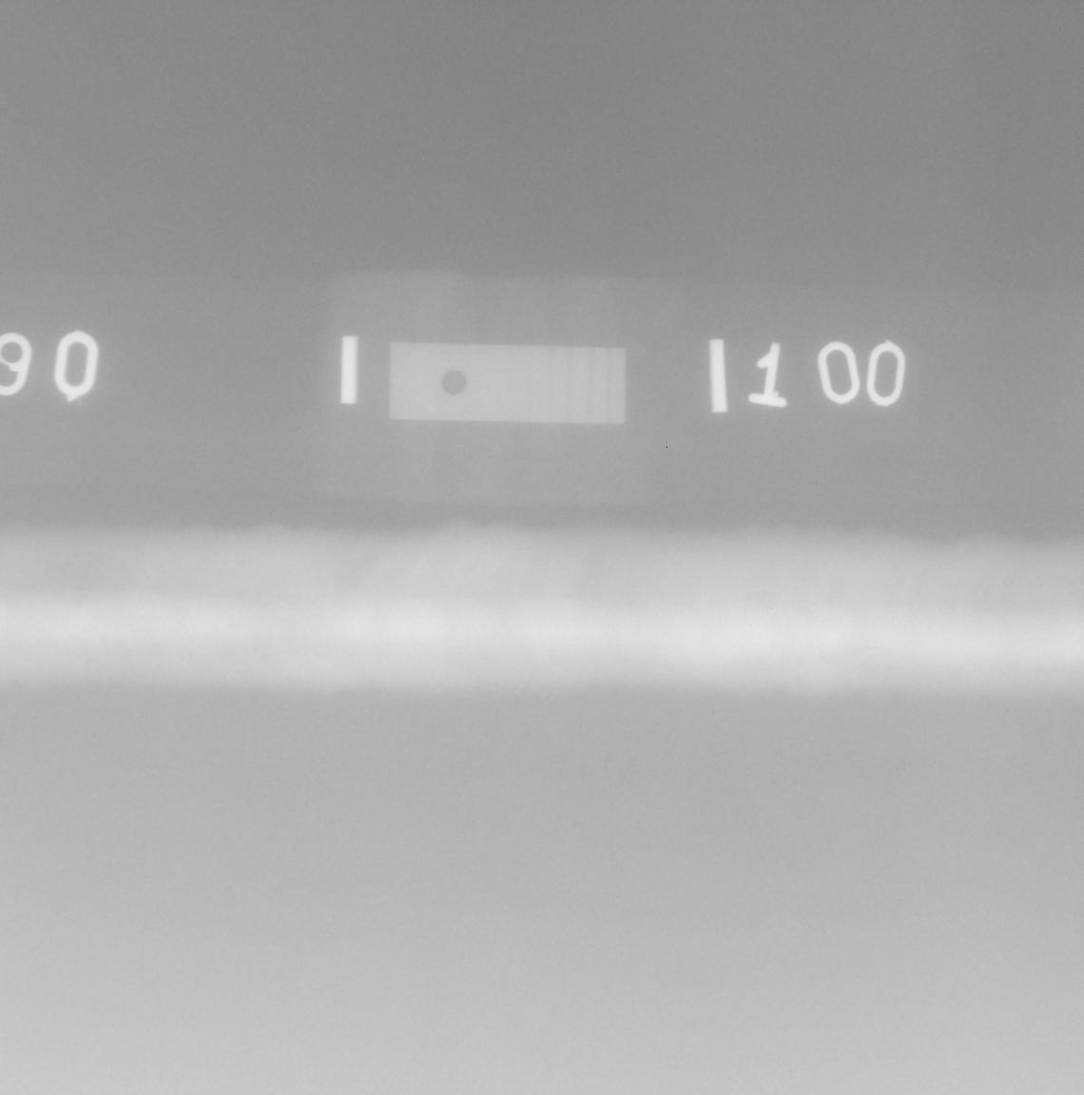Reference Standard 1: (389, 342, 625, 424)
